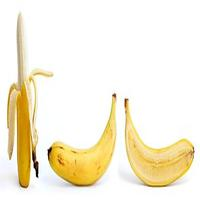banane: (122, 89, 198, 198), (6, 12, 51, 194), (47, 89, 119, 194)
